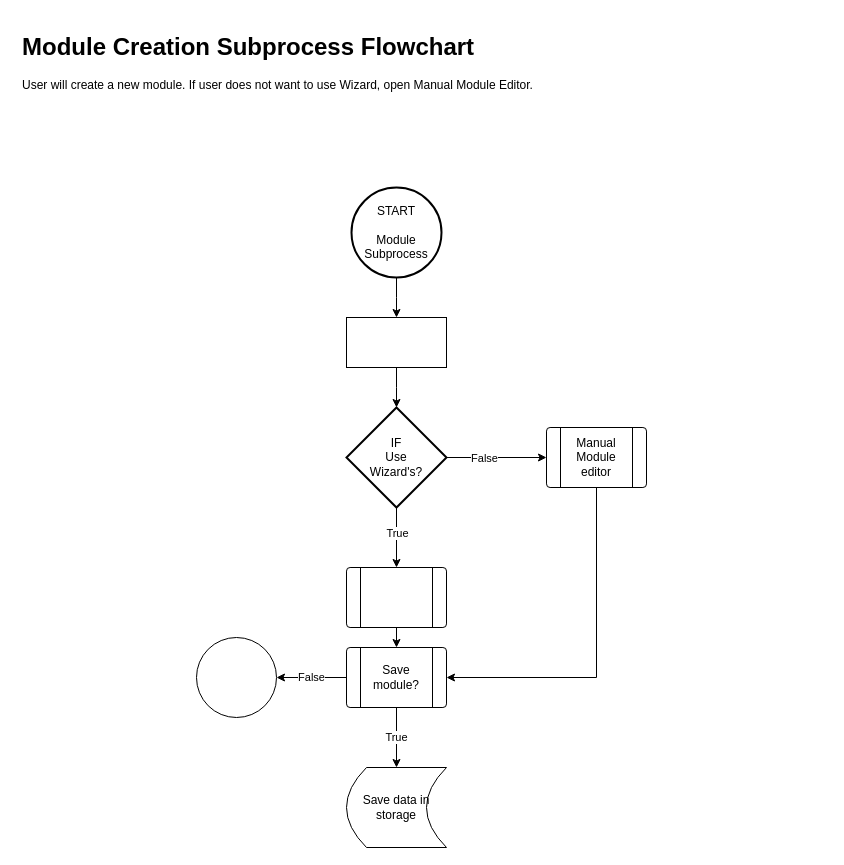
Some shapes in this 844 by 865 pixel diagram are drawn without their labels. The shapes that lost their labels are listed below. From the top down, each one's centre as x and y in pixels, then its label:
the point at 396,342: Prompt user for module name
the point at 396,597: Wizard module editor
the point at 236,677: End
